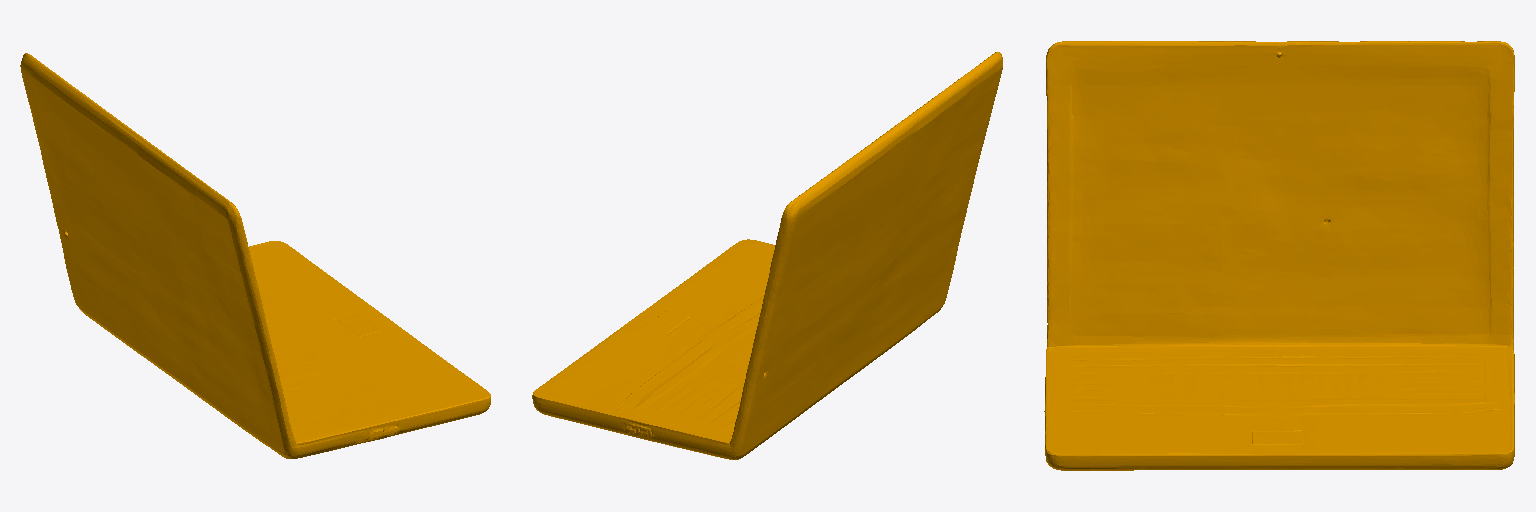
URDF robot description (sample):
<?xml version="1.0" ?>
<robot name="sample">
   <link name="sample">
      <visual>
         <origin xyz="0 0 0" rpy="1.5708 0.0 0.0"/>
         <geometry>
            <mesh filename="mesh/sample.obj" scale="1.0 1.0 1.0"/>
         </geometry>
      </visual>
      <collision>
         <origin xyz="0 0 0" rpy="1.5708 0.0 0.0"/>
         <geometry>
            <mesh filename="mesh/sample_collision.obj" scale="1.0 1.0 1.0"/>
         </geometry>
         <gazebo>
            <mu1>0.70</mu1>
            <mu2>0.50</mu2>
         </gazebo>
      </collision>
      <inertial>
         <mass value="2.0000"/>
         <origin xyz="0 0 0"/>
         <inertia ixx="1.0" ixy="0.0" ixz="0.0" iyy="1.0" iyz="0.0" izz="1.0"/>
      </inertial>
      <extra_info>
         <scale>0.465476</scale>
         <version>v0.1.7</version>
         <category>laptop</category>
         <description>open laptop with colorful screen display</description>
         <min_height>0.3</min_height>
         <max_height>0.35</max_height>
         <real_height>0.325</real_height>
         <min_mass>1.5</min_mass>
         <max_mass>2.5</max_mass>
         <color>silver</color>
         <rgba>[0.8, 0.8, 0.8, 1.0]</rgba>
         <generate_time>20260624145344</generate_time>
         <gs_model>mesh/sample_gs.ply</gs_model>
      </extra_info>
   </link>
   <custom_data>
      <quality>
         <MeshGeoChecker>YES</MeshGeoChecker>
         <ImageSegChecker>YES</ImageSegChecker>
         <ImageAestheticChecker>4.829065322875977</ImageAestheticChecker>
         <overall>YES</overall>
      </quality>
   </custom_data>
</robot>

--- Render facts (derived) ---
Views: 3 orthographic renders of the robot side by side, from view 1: azimuth 30°, elevation 25°; view 2: azimuth 150°, elevation 25°; view 3: azimuth 270°, elevation 25°.
Model sample with 1 links and 0 joints (none), rooted at sample, posed every joint at zero.
Visible links, largest first — view 1: sample; view 2: sample; view 3: sample.
Link boxes in pixels (x1,y1,x2,y2): sample: (20,53,490,458); sample: (532,52,1002,459); sample: (1044,41,1514,470).
Bounding box of the posed robot: 0.3293 × 0.4655 × 0.325 m (x, y, z).
Meshes: 1 distinct files referenced, 1 mesh visuals loaded (1 OBJ).
